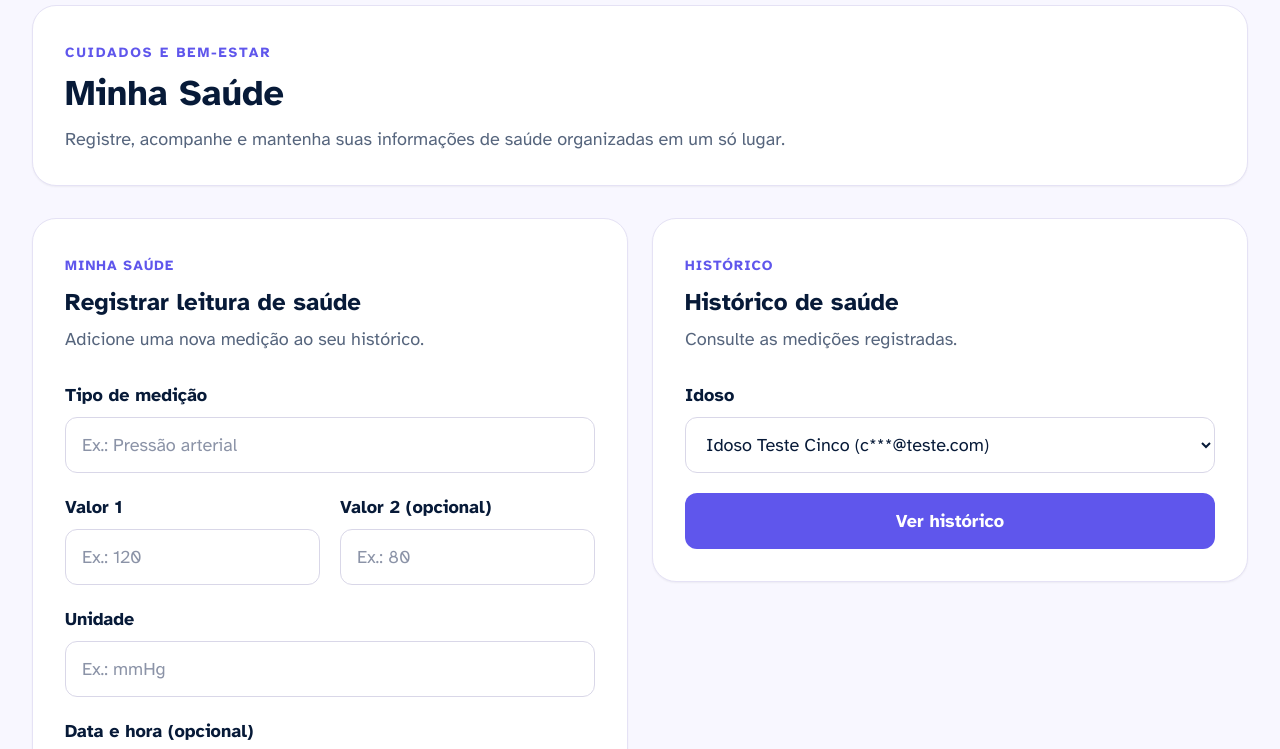
Saude — registrar minha saúde › mostra mensagem de sucesso
The width and height of the screenshot is (1280, 749).
Type "peso" into the field labelled "Tipo de medição" at (330, 445), box [65, 417, 595, 473]
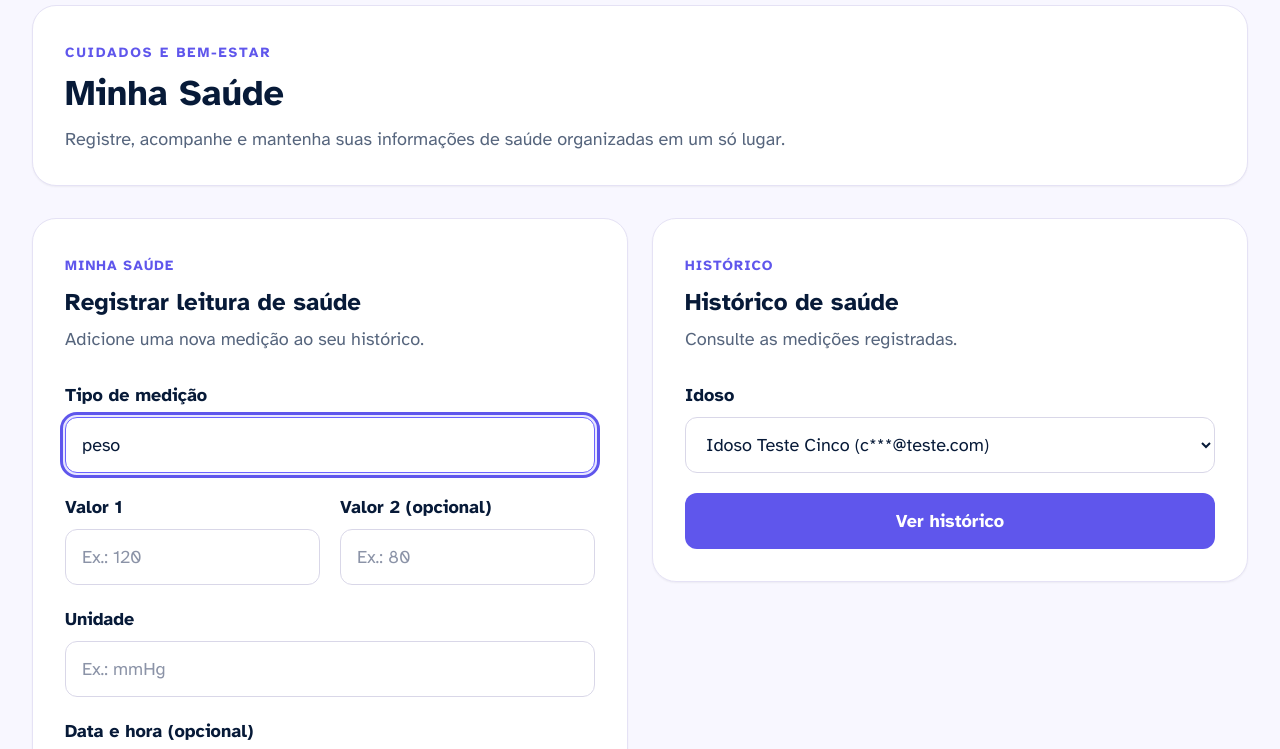
Type "70" into the number field labelled "Valor 1" at (192, 557), box [65, 529, 320, 585]
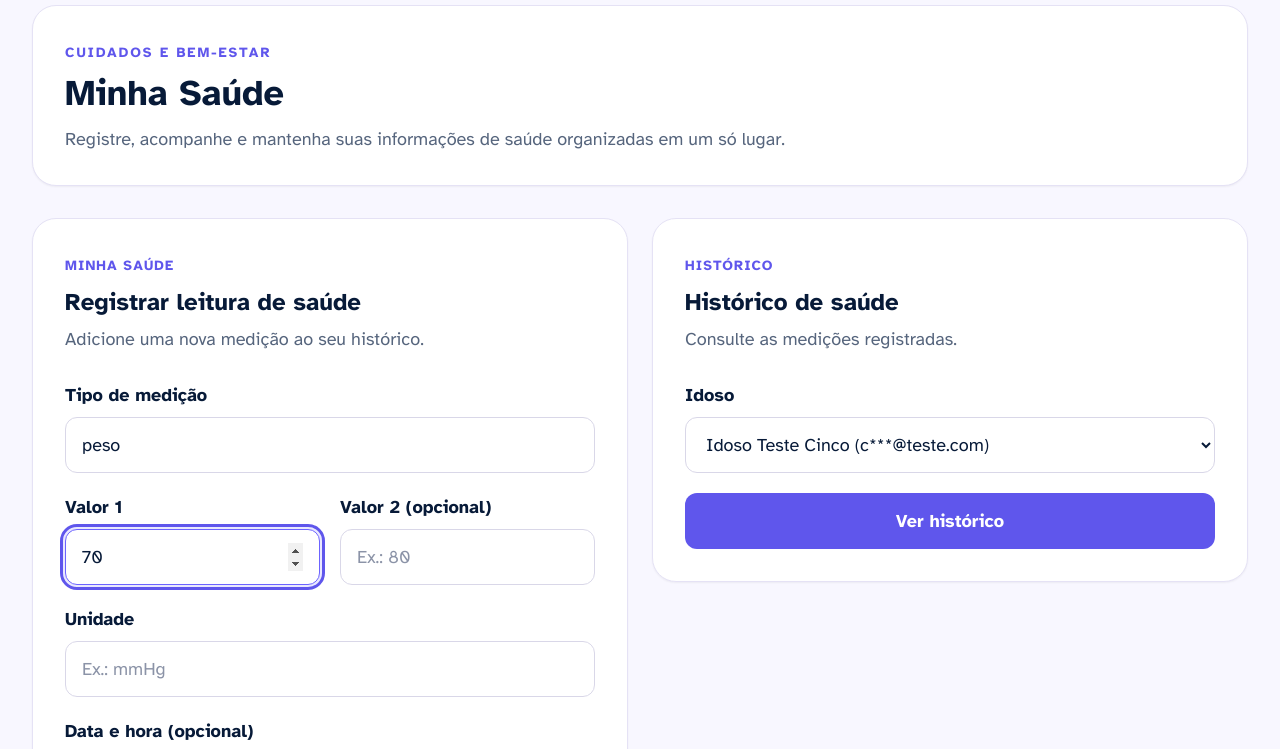
Type "kg" into the field labelled "Unidade" at (330, 669), box [65, 641, 595, 697]
(page scrolled)
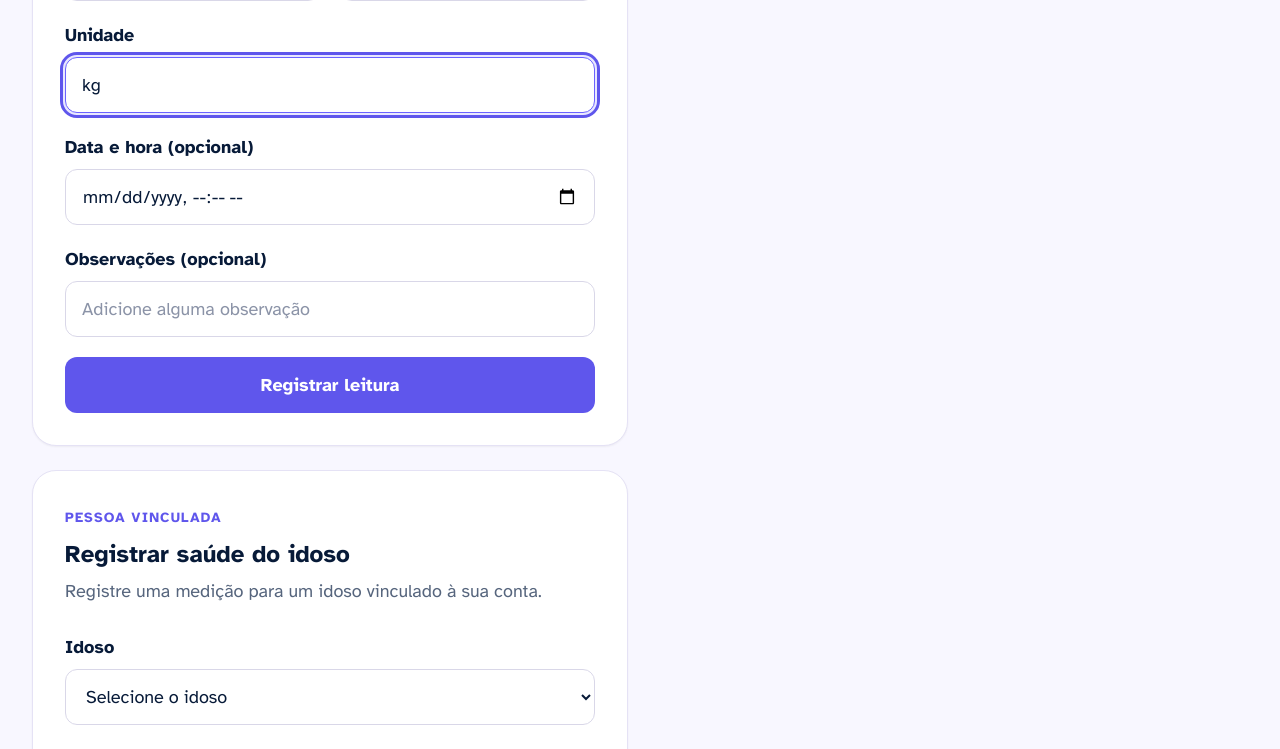
Click the button "Registrar leitura" at (330, 385), box [65, 357, 595, 413]
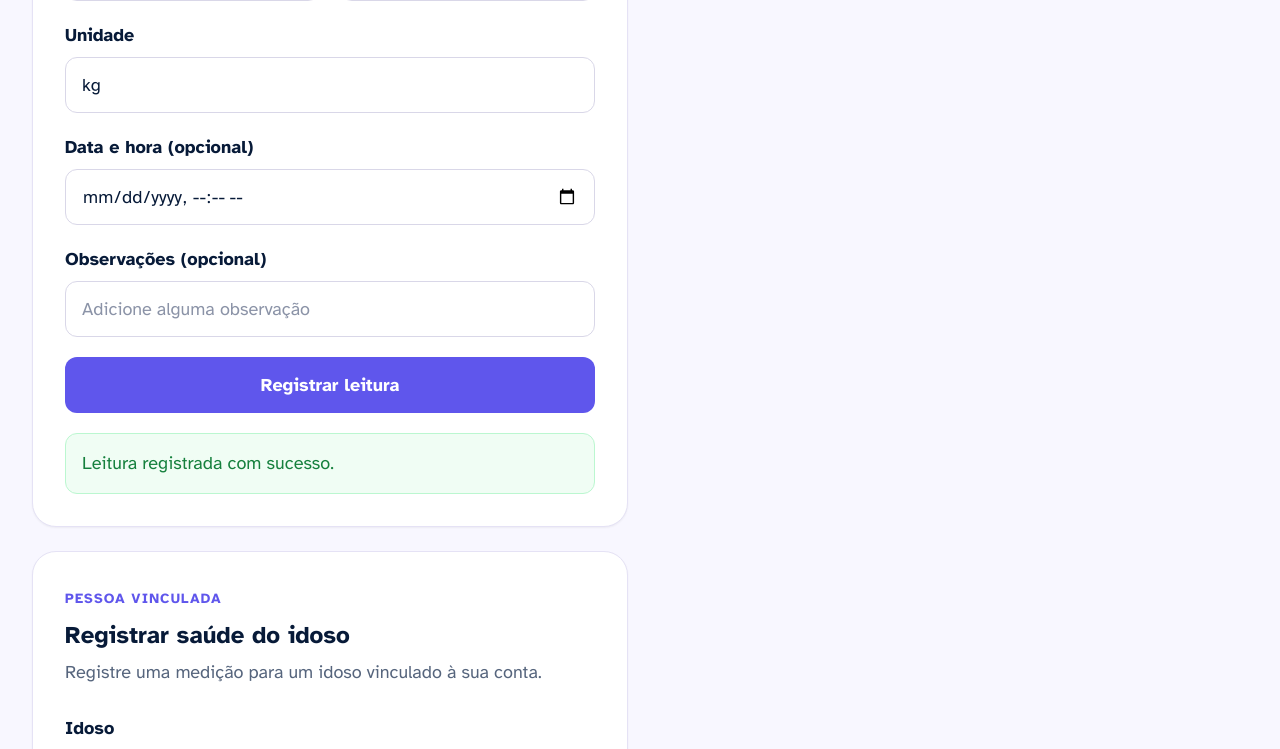
Now the text "Leitura registrada com sucesso." is shown, box [65, 433, 595, 494]
